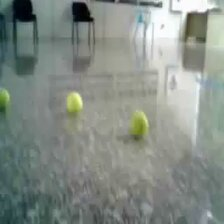tennis: (130, 110, 148, 138), (66, 91, 83, 112), (1, 86, 11, 108)
